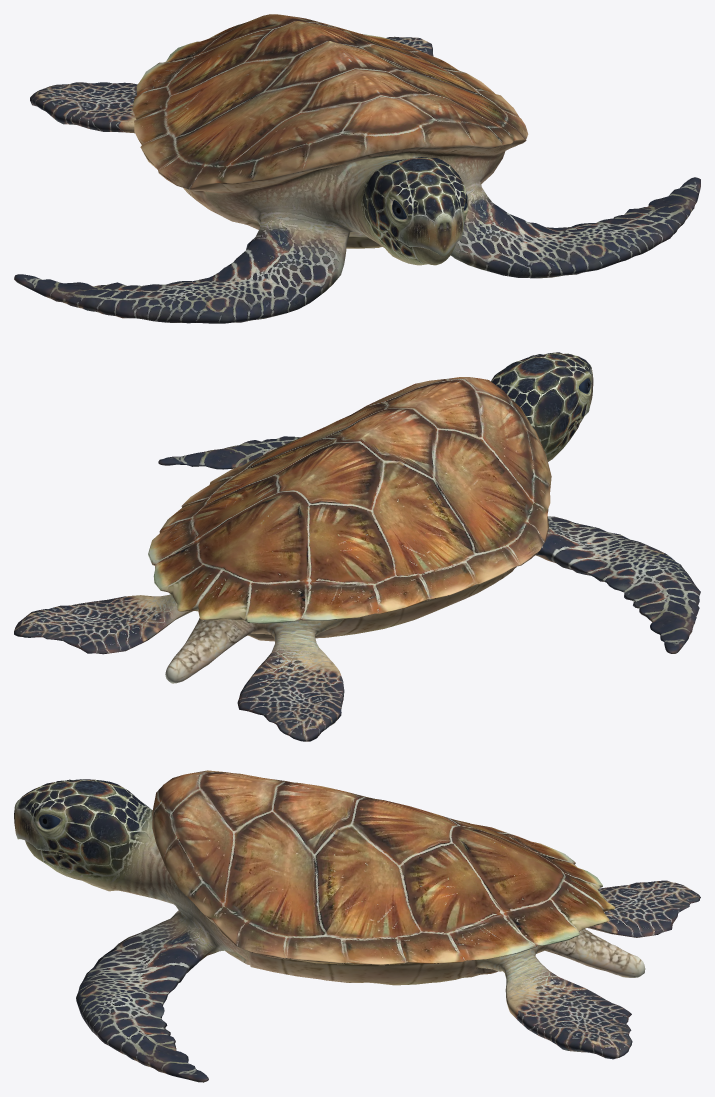
File: turtle_compressed.glb
3 views of the same model, one above another, from view 1: azimuth 30°, elevation 25°; view 2: azimuth 150°, elevation 25°; view 3: azimuth 270°, elevation 25° (orthographic). The views are drawn at different scales.
Parts seen in each view (by area): view 1: sea_turtle; view 2: sea_turtle; view 3: sea_turtle.
Part boxes in pixels (x1,y1,x2,y2): sea_turtle: [14, 14, 700, 323]; sea_turtle: [14, 352, 700, 741]; sea_turtle: [14, 770, 700, 1082].
Size of the model in its own units: 6.88 by 1.86 by 6.95.
Materials: 2 (2 with a texture image).
